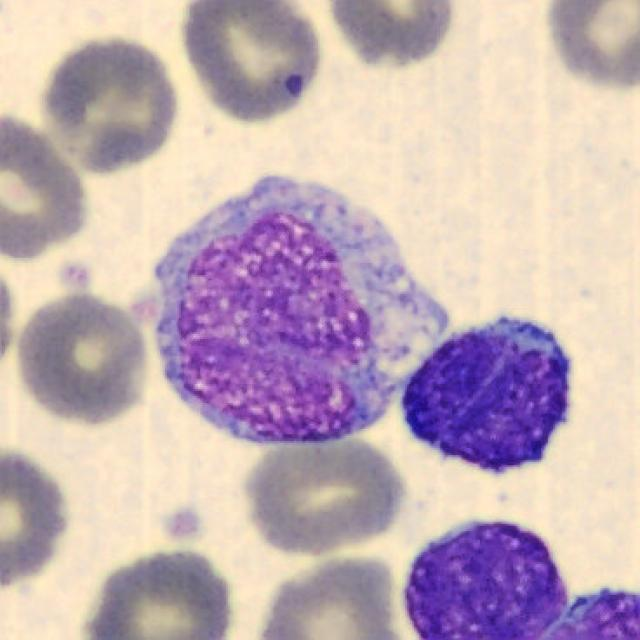Linfocito: (402, 318, 572, 474), (403, 521, 569, 640)
Monocito: (155, 178, 452, 445)
